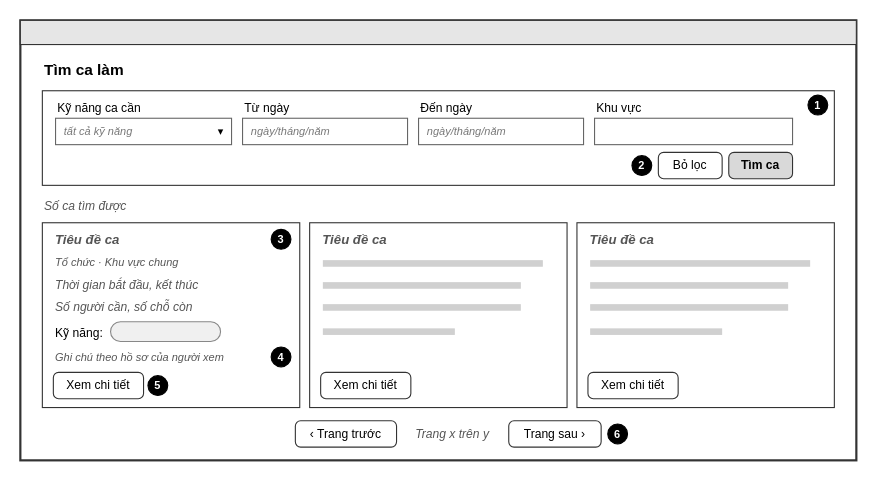
This 876x480 diagram has some shape labels left out. The centre of each missing label's shape, as x and y in pixels:
kỹ năng yêu cầu: [165,331]
Đầu trang và thanh mục (Hình 6.2): [437,32]
